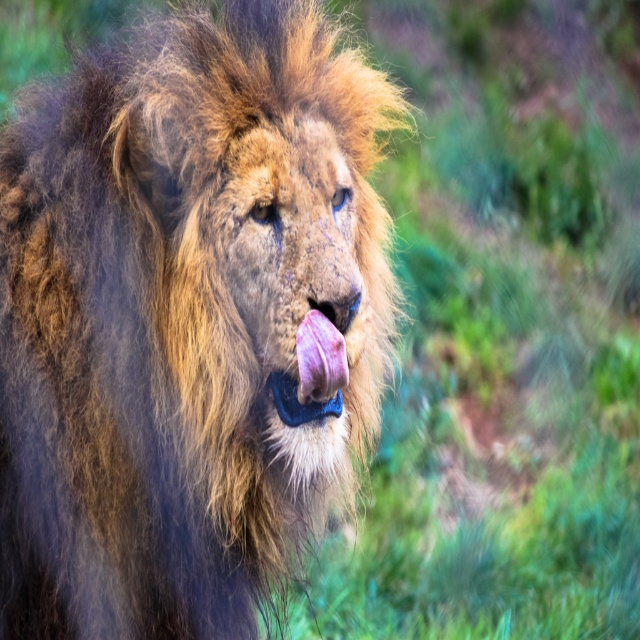Lion: (0, 0, 435, 640)
